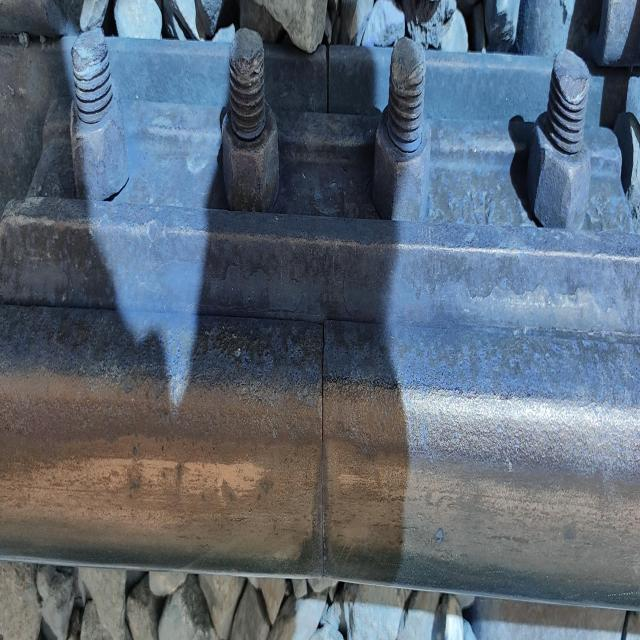Good Joint: (0, 22, 640, 336)
